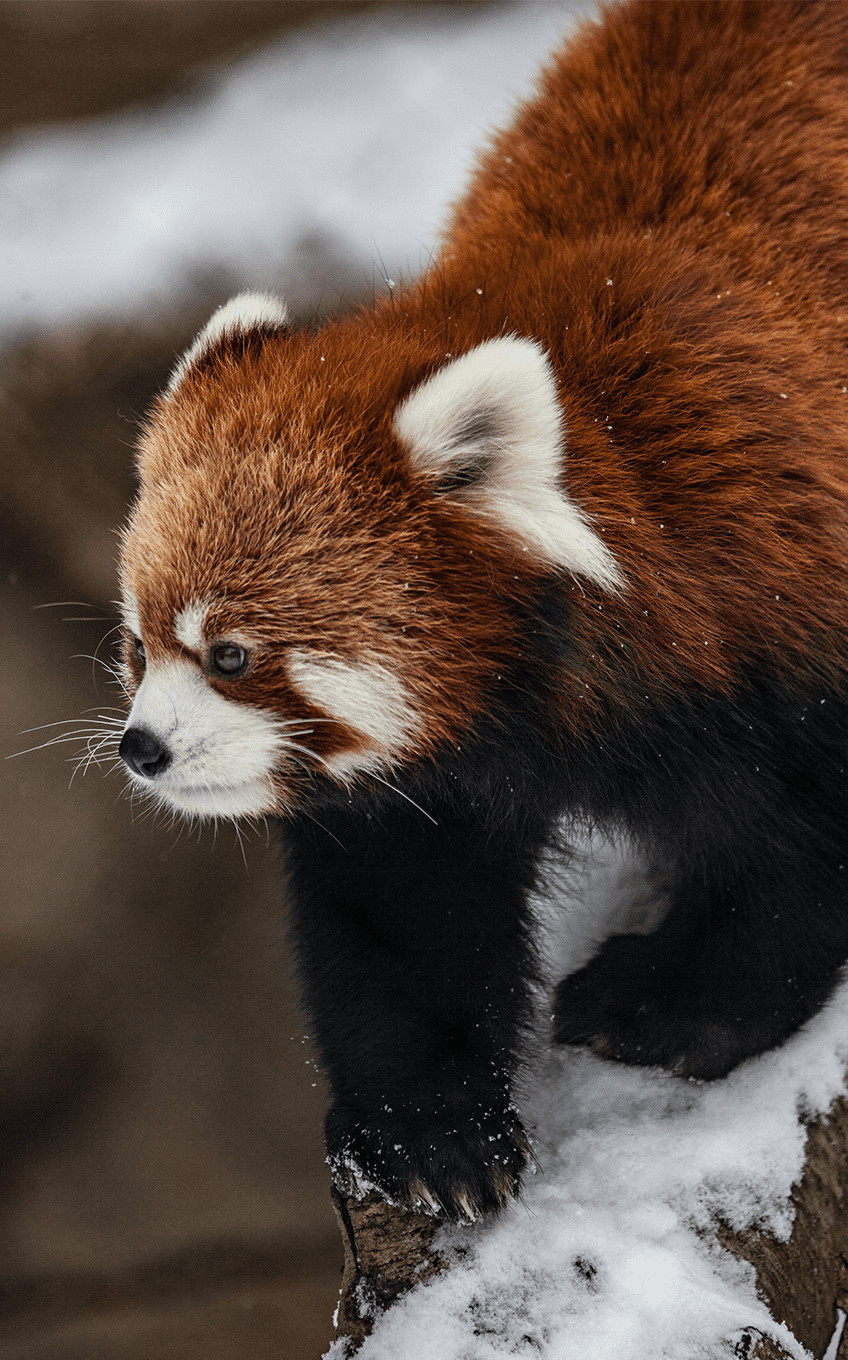Red panda: (98, 274, 589, 835)
